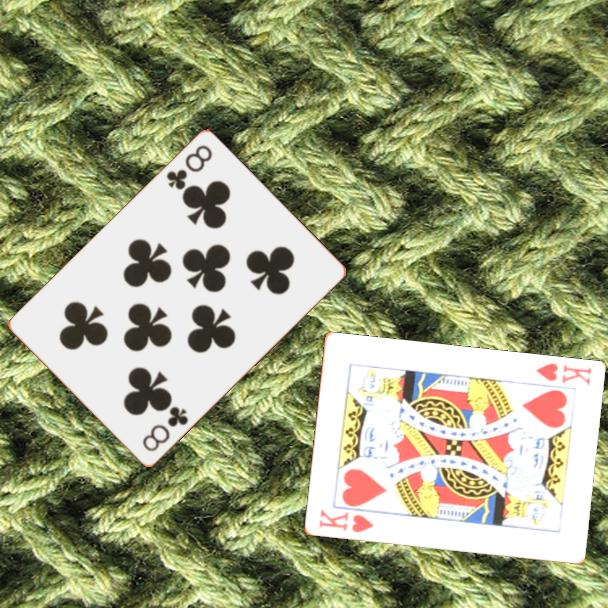c08: (139, 403, 191, 455), (163, 142, 215, 193)
h13: (315, 506, 376, 536), (532, 360, 594, 389)
